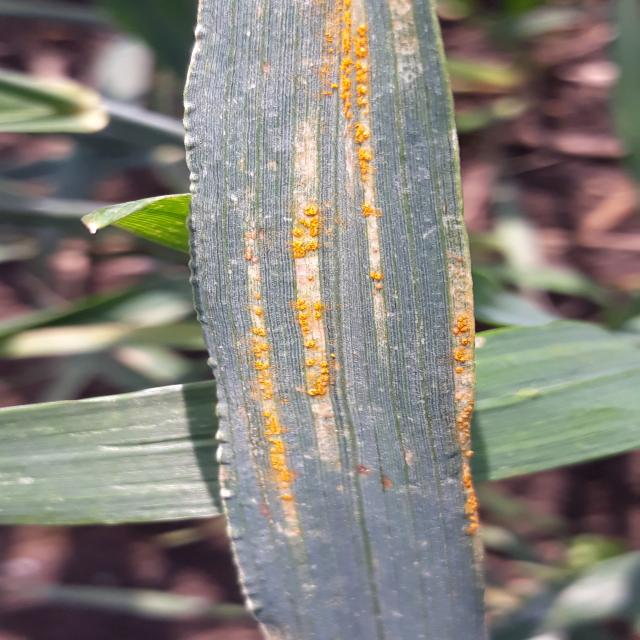yellow_rust: (141, 9, 540, 578)
